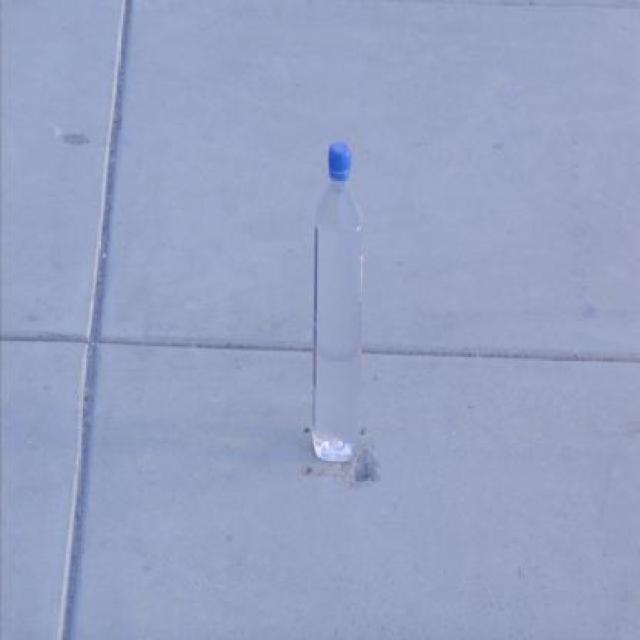bottle: (314, 128, 372, 481)
